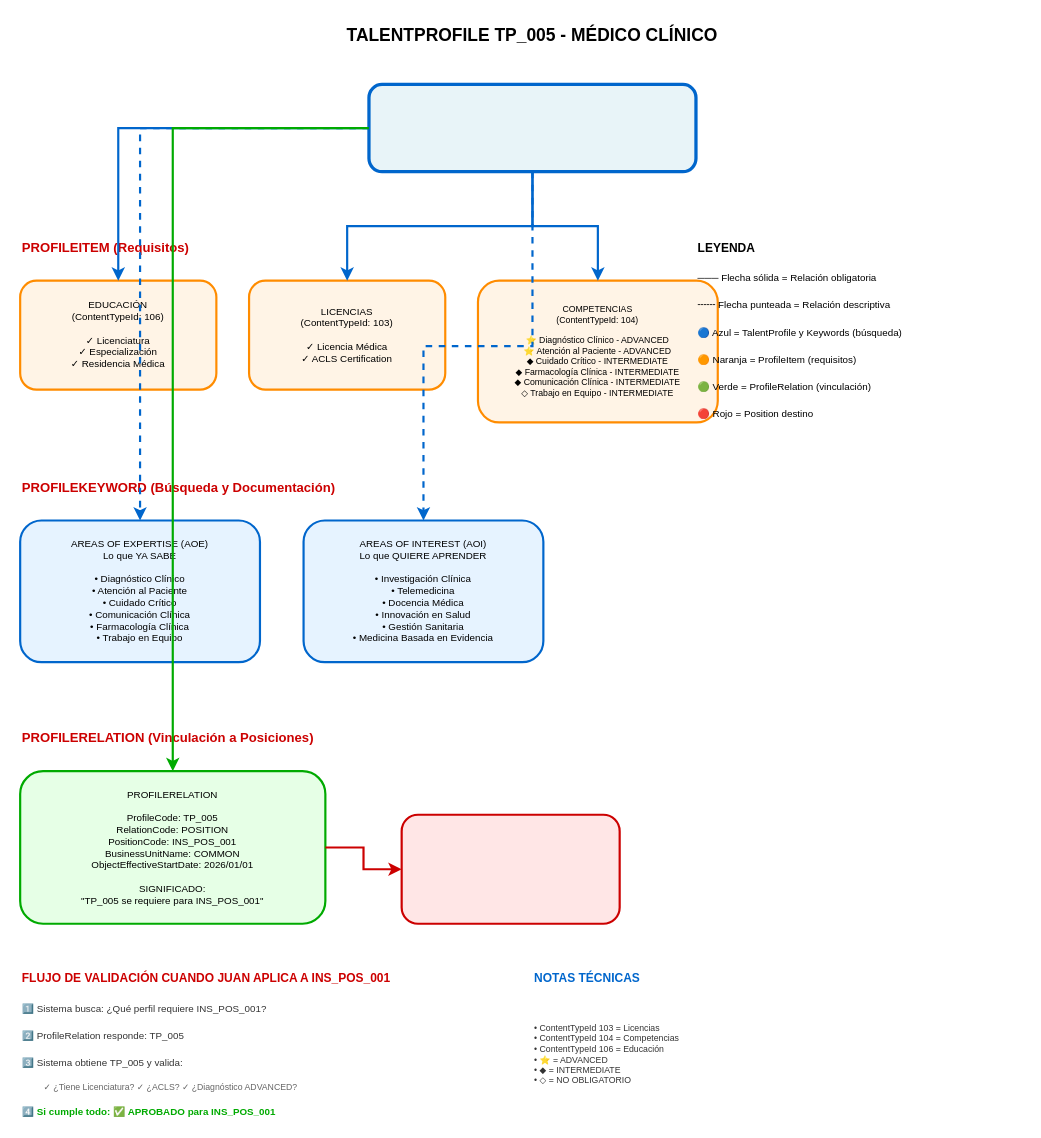
Some shapes in this 1041 by 1138 pixel diagram are drawn without their labels. Here are the shapes that lost their labels. From the top down, the box of each, then its label:
(367, 82, 697, 173): TALENTPROFILE TP_005 Médico Clínico Hospitalario
(400, 813, 620, 924): POSITION INS_POS_001 Médico General Hospitalario (En INS Servicios Médicos)
